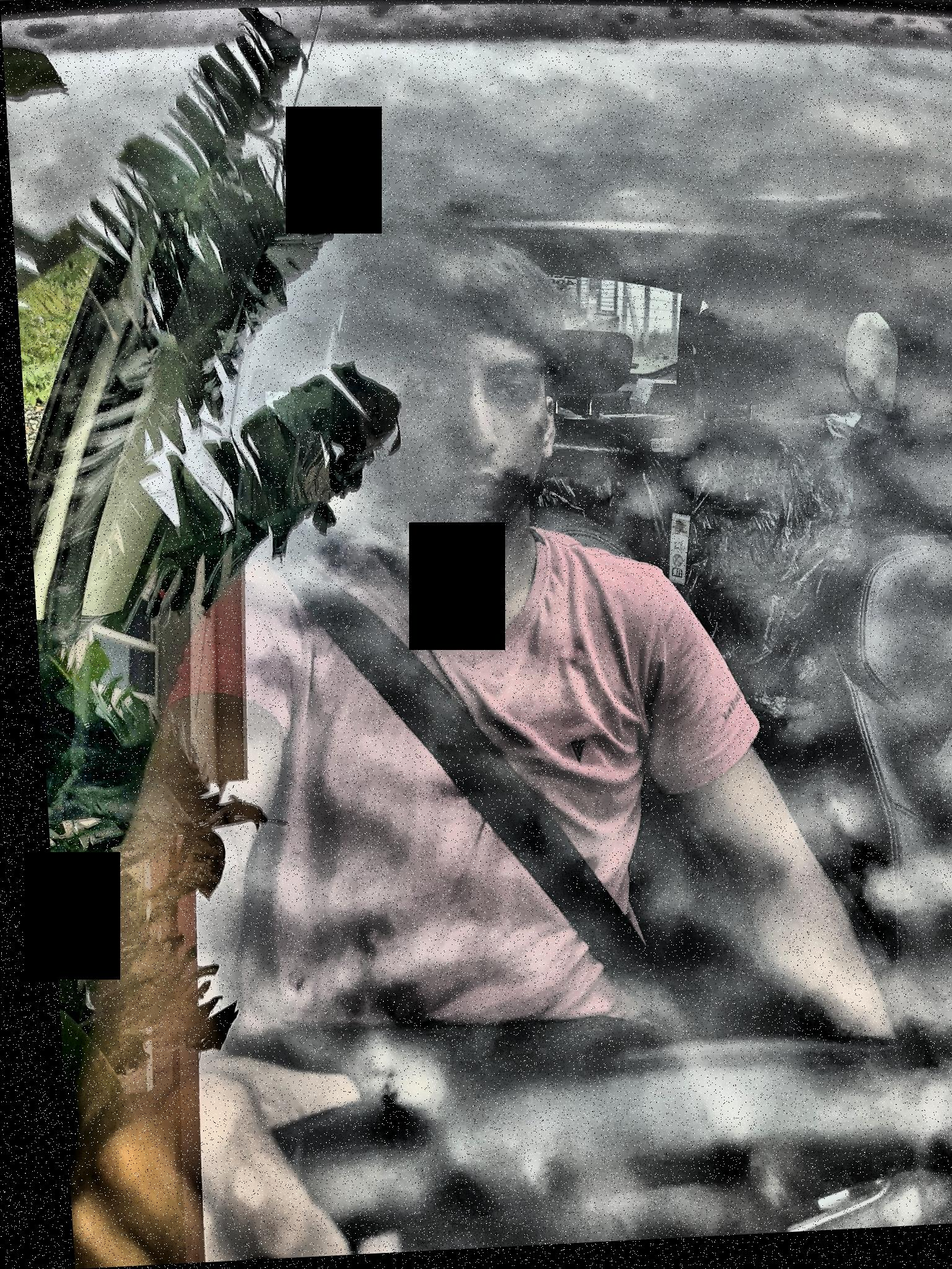seatbelt: (190, 445, 810, 1240)
